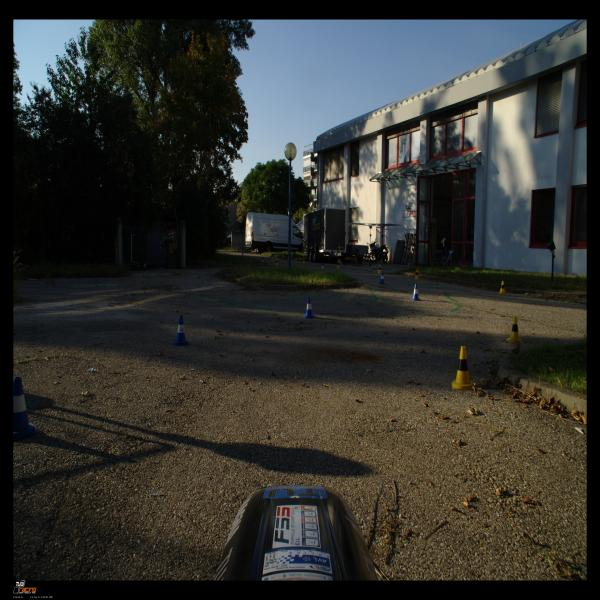blue_cone: (14, 376, 39, 442), (171, 315, 190, 346), (303, 297, 315, 319), (410, 284, 421, 300), (379, 272, 385, 284), (321, 263, 324, 272)
orange_cone: (282, 254, 284, 260)
yellow_cone: (451, 346, 476, 389), (506, 316, 523, 343), (498, 281, 507, 294), (414, 269, 420, 280), (336, 260, 340, 268), (378, 264, 381, 274), (302, 256, 305, 264), (275, 258, 278, 266), (262, 255, 264, 262)
